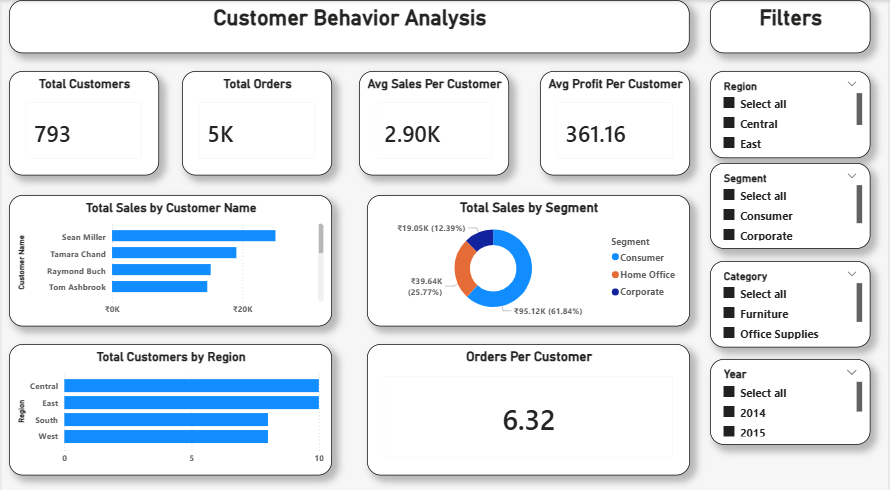

This screenshot's page, from the dashboard's own definition file:
{"tool":"powerbi","page":{"name":"Customer Analytics","canvas":[1280,720],"ordinal":1},"visuals":[{"type":"textbox","title":"Customer Behavior Analysis","box":[10.1,0,984,77.3],"z":0},{"type":"cardVisual","title":"Total Customers","fields":{"Data":["cleaned_data.Total Customers"]},"box":[10.1,102.5,216.7,151.2],"z":1000},{"type":"cardVisual","title":"Total Orders","fields":{"Data":["cleaned_data.Total Orders"]},"box":[260.4,102.5,216.7,151.2],"z":2000},{"type":"cardVisual","title":"Avg Sales Per Customer","fields":{"Data":["cleaned_data.Avg Sales Per Customer"]},"box":[515.7,102.5,216.7,151.2],"z":3000},{"type":"cardVisual","title":"Avg Profit Per Customer","fields":{"Data":["cleaned_data.Avg Profit Per Customer"]},"box":[777.7,102.5,216.7,151.2],"z":4000},{"type":"barChart","fields":{"Category":["cleaned_data.Customer Name"],"Y":["cleaned_data.Total Sales"]},"box":[10.1,282.2,467,189.8],"z":5000},{"type":"donutChart","fields":{"Category":["cleaned_data.Segment"],"Y":["cleaned_data.Total Sales"]},"box":[527.5,282.2,467,189.8],"z":6000},{"type":"barChart","fields":{"Category":["cleaned_data.Region"],"Y":["cleaned_data.Total Customers"]},"box":[10.1,497.2,467,189.8],"z":7000},{"type":"cardVisual","title":"Orders Per Customer","fields":{"Data":["cleaned_data.Orders Per Customer"]},"box":[527.5,497.2,467,189.8],"z":8000},{"type":"textbox","title":"Filters","box":[1023,0,231.8,77.3],"z":9000},{"type":"slicer","fields":{"Values":["cleaned_data.Region"]},"box":[1023,102.5,231.8,126],"z":10000},{"type":"slicer","fields":{"Values":["cleaned_data.Segment"]},"box":[1023,235.2,231.8,124.3],"z":11000},{"type":"slicer","fields":{"Values":["cleaned_data.Category"]},"box":[1023,378,231.8,125],"z":12000},{"type":"slicer","fields":{"Values":["cleaned_data.Order Date.Variation.Date Hierarchy.Year"]},"box":[1023,519.1,231.8,124.3],"z":13000}]}

Visuals, with their boxes in screenshot pixels (x1, y1, x2, y2), scaled from the page's 1280x720 canvas onto the 890x490 screenshot:
"Customer Behavior Analysis" textbox: [7,0,691,53]
"Total Customers" cardVisual: [7,70,158,173]
"Total Orders" cardVisual: [181,70,332,173]
"Avg Sales Per Customer" cardVisual: [359,70,509,173]
"Avg Profit Per Customer" cardVisual: [541,70,691,173]
barChart - cleaned_data.Customer Name x cleaned_data.Total Sales: [7,192,332,321]
donutChart - cleaned_data.Segment x cleaned_data.Total Sales: [367,192,691,321]
barChart - cleaned_data.Region x cleaned_data.Total Customers: [7,338,332,468]
"Orders Per Customer" cardVisual: [367,338,691,468]
"Filters" textbox: [711,0,872,53]
slicer - cleaned_data.Region: [711,70,872,156]
slicer - cleaned_data.Segment: [711,160,872,245]
slicer - cleaned_data.Category: [711,257,872,342]
slicer - cleaned_data.Order Date.Variation.Date Hierarchy.Year: [711,353,872,438]
